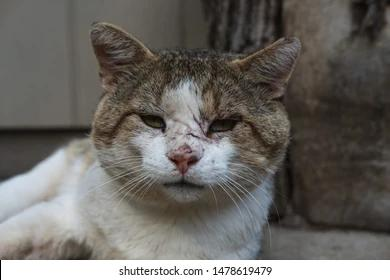cut: (159, 103, 239, 164)
